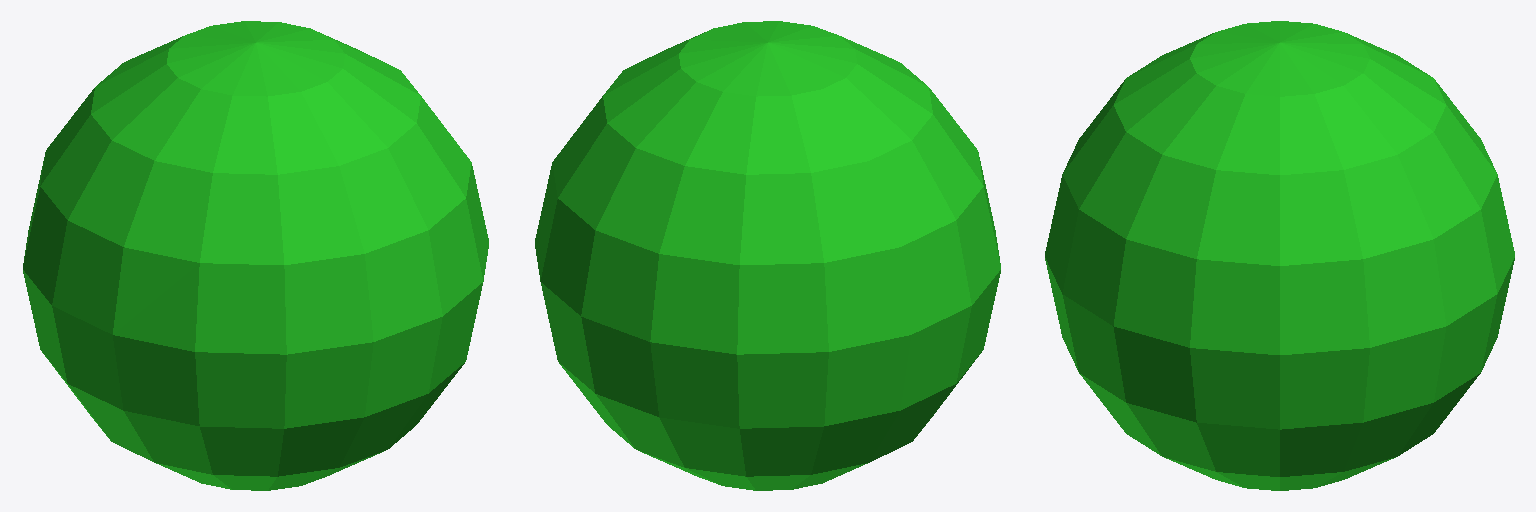
The model's file is greenball.obj.
The picture shows the model from 3 angles: view 1: azimuth 30°, elevation 25°; view 2: azimuth 150°, elevation 25°; view 3: azimuth 270°, elevation 25°; orthographic projection.
Parts seen in each view (by area): view 1: Sphere; view 2: Sphere; view 3: Sphere.
Part boxes in pixels (x1,y1,x2,y2): Sphere: (23,21,488,490); Sphere: (535,21,1000,490); Sphere: (1045,21,1514,490).
Size of the model in its own units: 2 by 2 by 2.